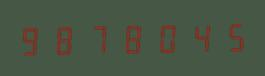eight: (50, 21, 82, 56), (116, 20, 148, 55)
five: (215, 18, 247, 53)
four: (182, 19, 214, 54)
nine: (17, 22, 49, 57)
seven: (83, 20, 115, 56)
zero: (149, 19, 181, 55)
